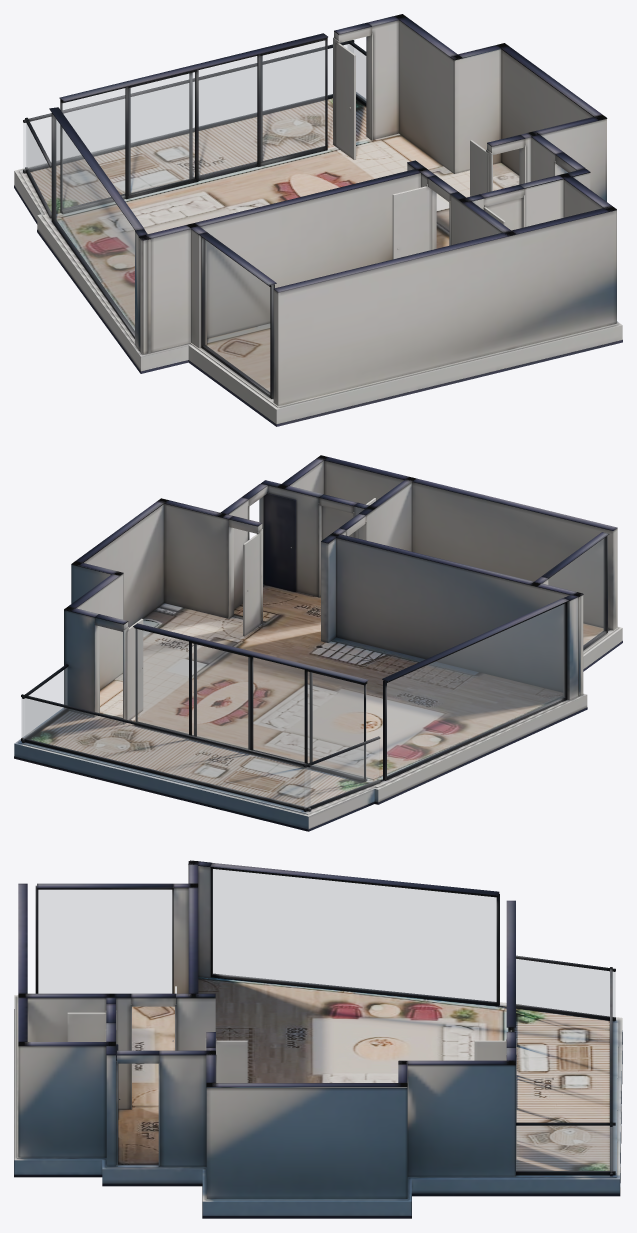
The picture shows the model from 3 angles, top to bottom: view 1: azimuth 30°, elevation 25°; view 2: azimuth 150°, elevation 25°; view 3: azimuth 270°, elevation 25°; orthographic projection. The views are drawn at different scales.
Visible parts, largest first — view 1: plan, glass0_m, railg0_m, glass1_m, glass2_m, railg2_m; view 2: plan, glass0_m, glass1_m, railg0_m, railg2_m, glass2_m, railg1_m; view 3: plan, glass1_m, glass2_m, railg1_m, railg2_m.
Boxes of the visible parts, bbox=[...] form: plan: bbox=[14, 14, 622, 426]; glass0_m: bbox=[62, 41, 324, 210]; railg0_m: bbox=[23, 44, 353, 169]; glass1_m: bbox=[54, 117, 134, 333]; glass2_m: bbox=[204, 239, 269, 393]; railg2_m: bbox=[26, 123, 51, 214]; plan: bbox=[14, 455, 622, 831]; glass0_m: bbox=[135, 629, 366, 777]; glass1_m: bbox=[387, 604, 564, 776]; railg0_m: bbox=[21, 697, 310, 807]; railg2_m: bbox=[304, 739, 379, 808]; glass2_m: bbox=[548, 538, 604, 646]; railg1_m: bbox=[23, 668, 67, 739]; plan: bbox=[14, 860, 622, 1218]; glass1_m: bbox=[212, 869, 496, 1002]; glass2_m: bbox=[38, 890, 171, 993]; railg1_m: bbox=[516, 1126, 615, 1171]; railg2_m: bbox=[516, 959, 615, 1017].
Size of the model in its own units: 9.97 by 2.62 by 11.16.
2 materials, 1 textured.
